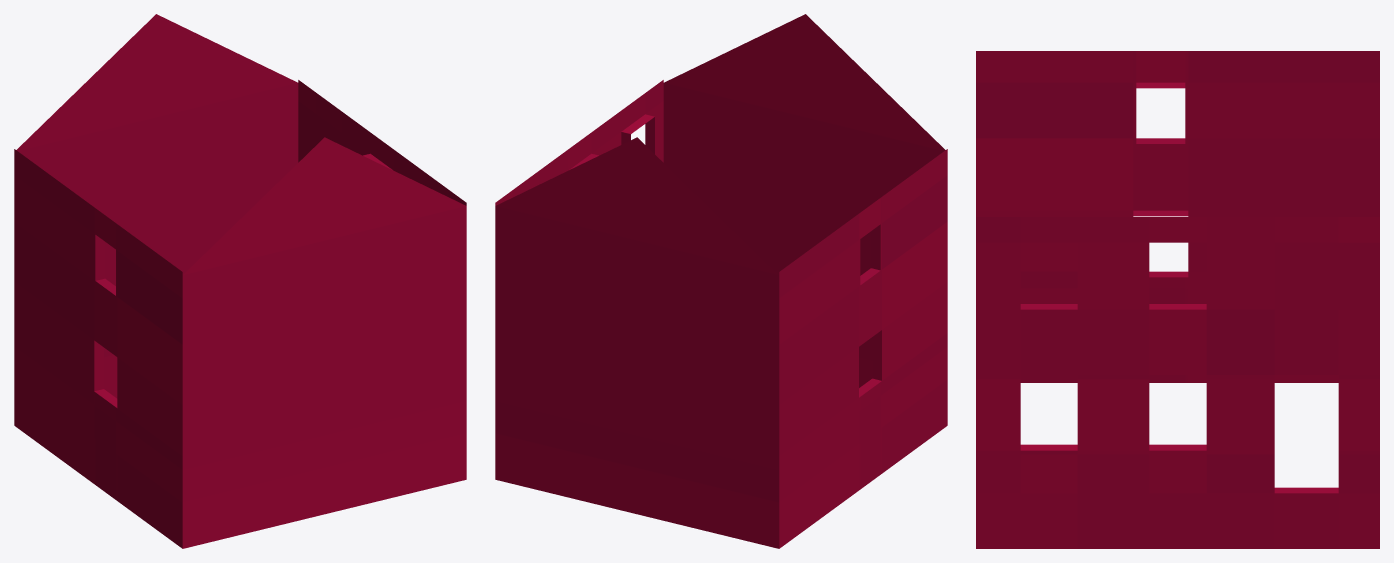
Rendered from SM_Bld_168_Masonry.glb.
3 renders of one model, left to right at view 1: azimuth 30°, elevation 25°; view 2: azimuth 150°, elevation 25°; view 3: azimuth 270°, elevation 25°, orthographic. The views are drawn at different scales.
Visible parts, largest first — view 1: SM_Bld_168_Masonry; view 2: SM_Bld_168_Masonry; view 3: SM_Bld_168_Masonry.
Boxes of the visible parts, x1,y1,x2,y2 form: SM_Bld_168_Masonry: (14,14,466,548); SM_Bld_168_Masonry: (495,14,947,548); SM_Bld_168_Masonry: (976,51,1379,548).
Bounding box in the file's own units: 6.4 × 8.13 × 6.58.
